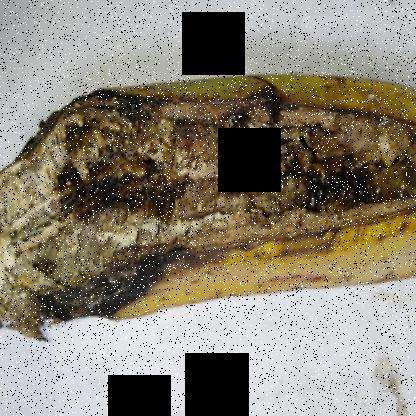rotten: (0, 76, 196, 362), (178, 52, 415, 276)
